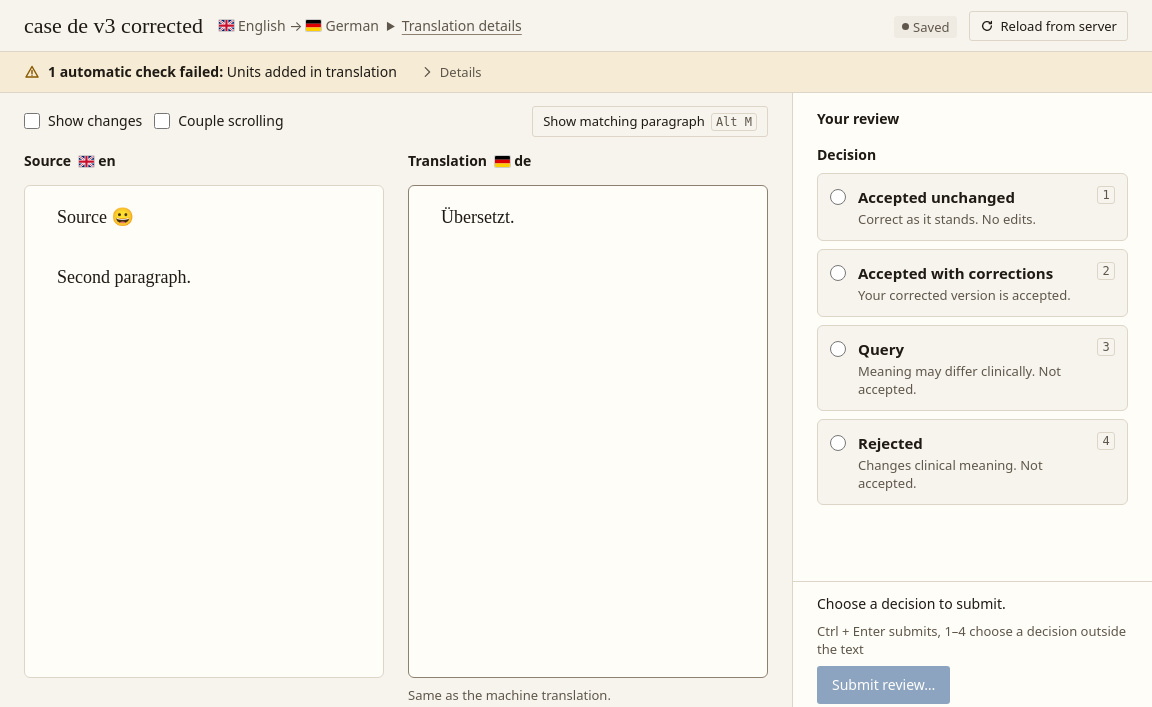
Test: submits a deliberately selected accepted_corrected through the real form and saver
Expected: the text box named "Translation (de)" is shown, [409,186,767,677]
Click the radio button labelled "Accepted with corrections" at [838, 273], box [830,265,846,281]
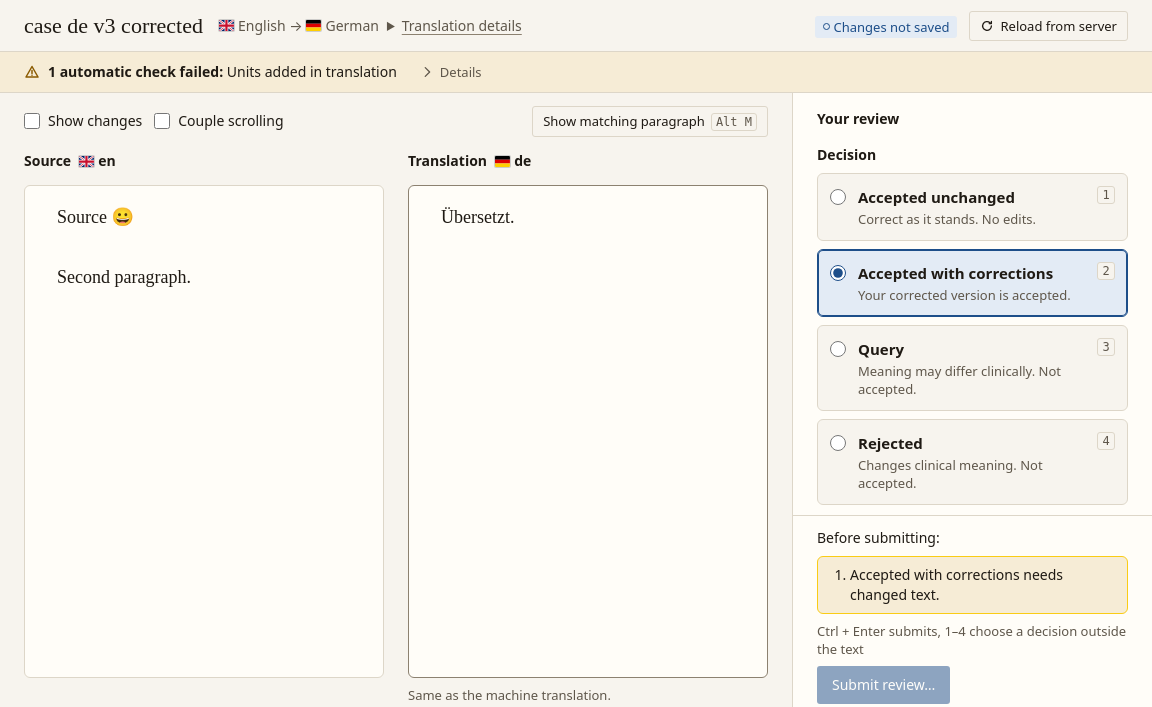
Replace the text in the text box named "Translation (de)" with "Corrected text" at [588, 432], box [409,186,767,677]
Wait 800 ms
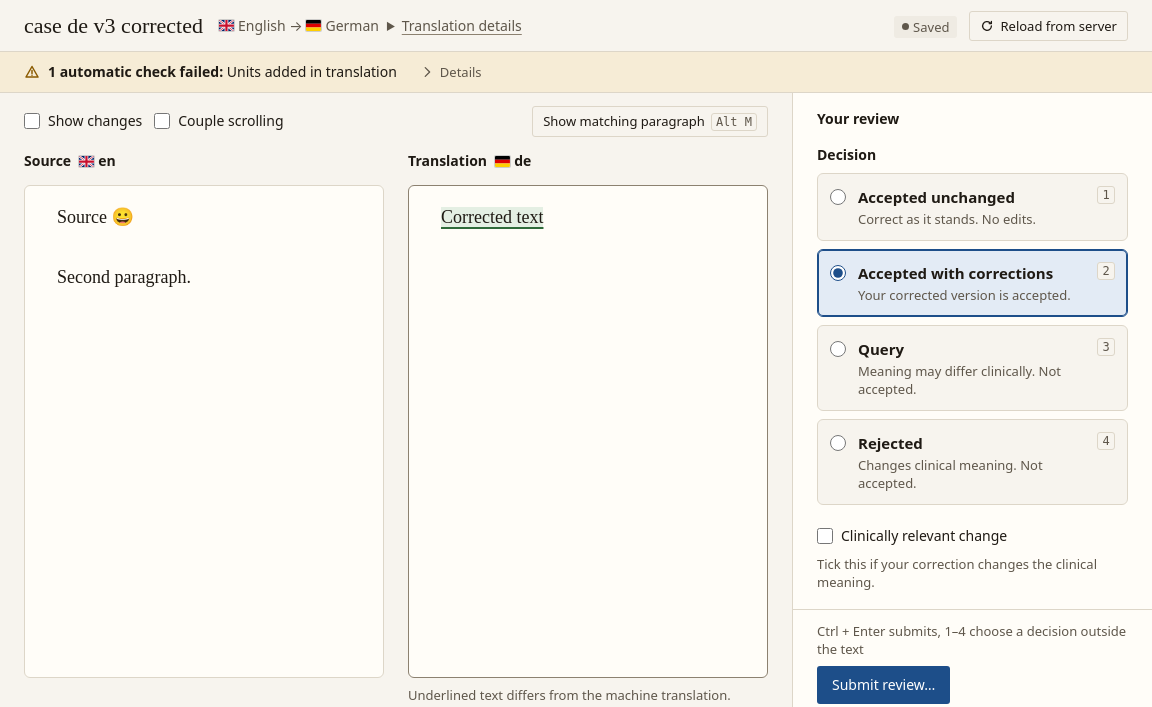
Now the button "Submit review…" does not have attribute aria-disabled
Click the button "Submit review…" at [884, 685], box [817,666,950,704]
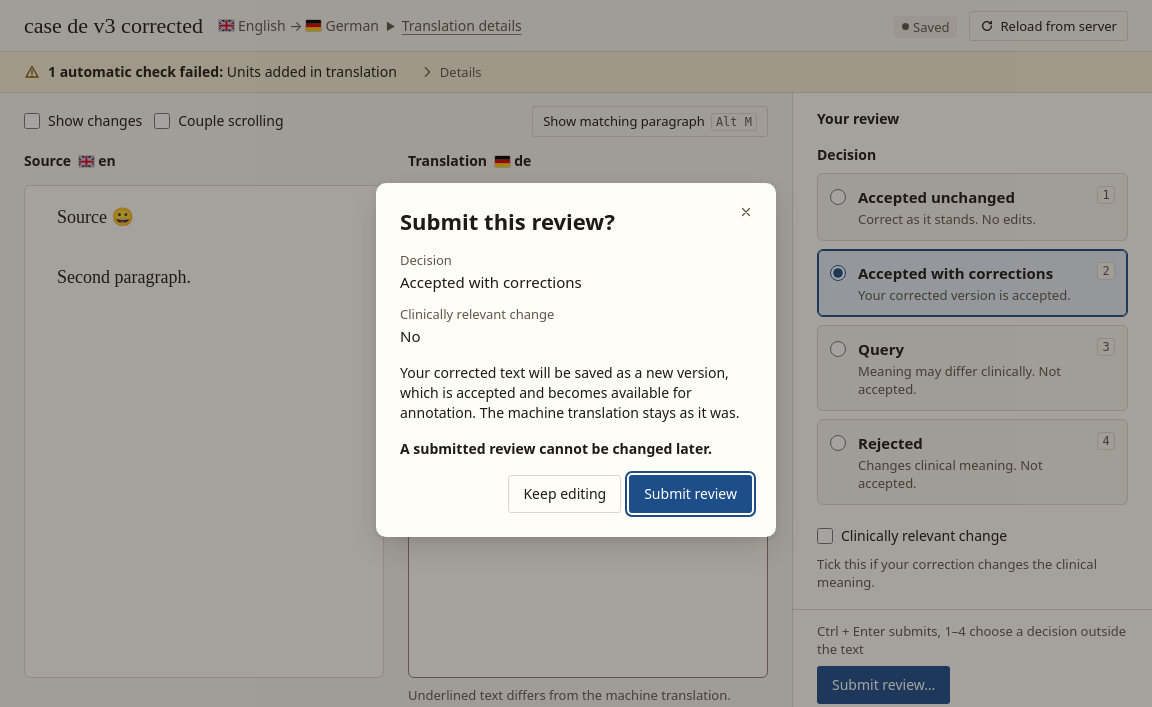
Click the button "Submit review" at [691, 494], box [629,475,752,513]
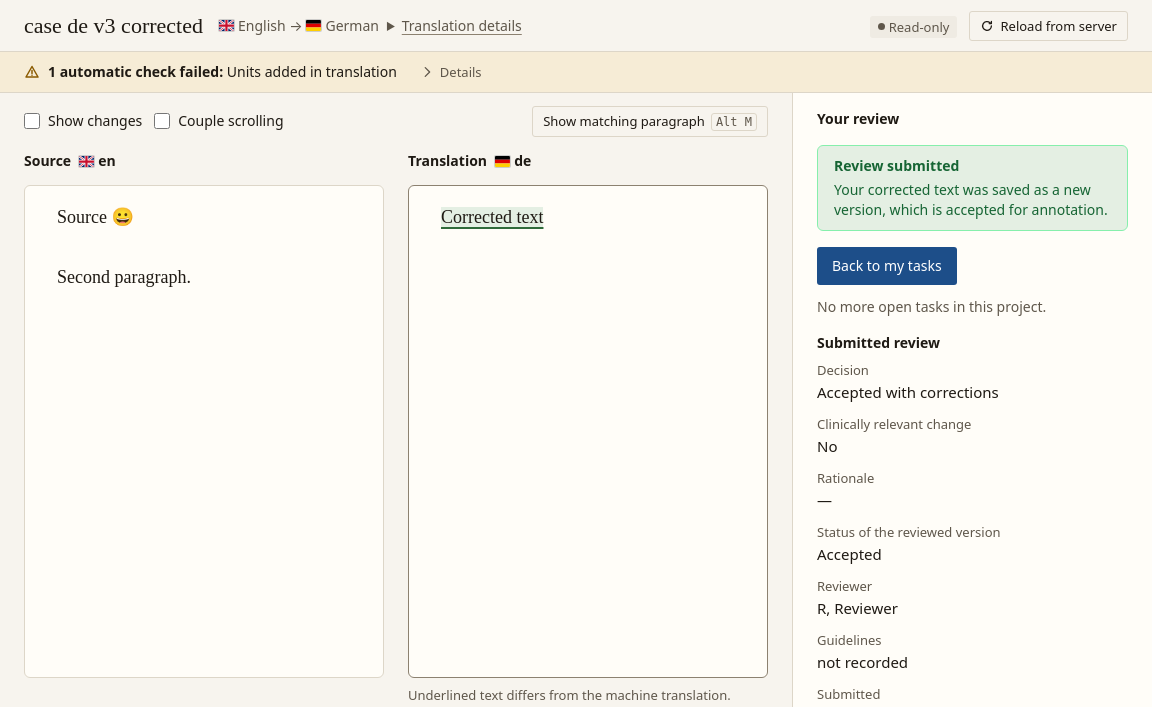
Now the text "Review submitted" is shown, box [834,156,959,175]
Now the dialog is gone
Now the radio button is gone
